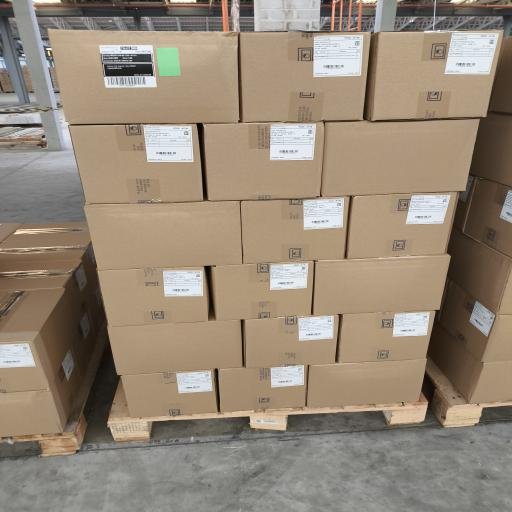pallet: (108, 381, 427, 440), (0, 322, 108, 456), (426, 357, 511, 427), (0, 126, 46, 150)
